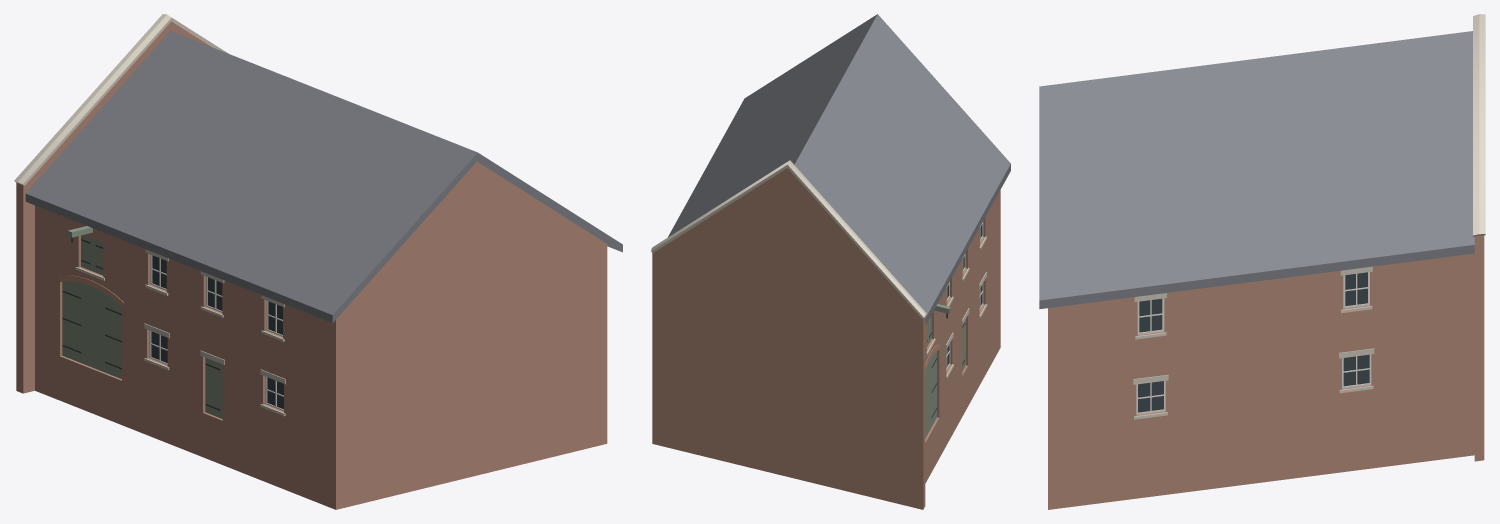
File: dexter_house_1721_prairie_coach_house__as_standing_1904.glb
3 views of the same model, side by side, from view 1: azimuth 30°, elevation 25°; view 2: azimuth 150°, elevation 25°; view 3: azimuth 270°, elevation 25° (orthographic). The views are drawn at different scales.
Parts seen in each view (by area): view 1: dexter_house_1721_prairie_coach_house__as_standing_1904; view 2: dexter_house_1721_prairie_coach_house__as_standing_1904; view 3: dexter_house_1721_prairie_coach_house__as_standing_1904.
Part boxes in pixels (bbox=[...]): dexter_house_1721_prairie_coach_house__as_standing_1904: bbox=[14, 14, 622, 509]; dexter_house_1721_prairie_coach_house__as_standing_1904: bbox=[651, 14, 1010, 509]; dexter_house_1721_prairie_coach_house__as_standing_1904: bbox=[1039, 14, 1485, 509].
Bounding box in the file's own units: 17.07 × 13.86 × 15.19.
